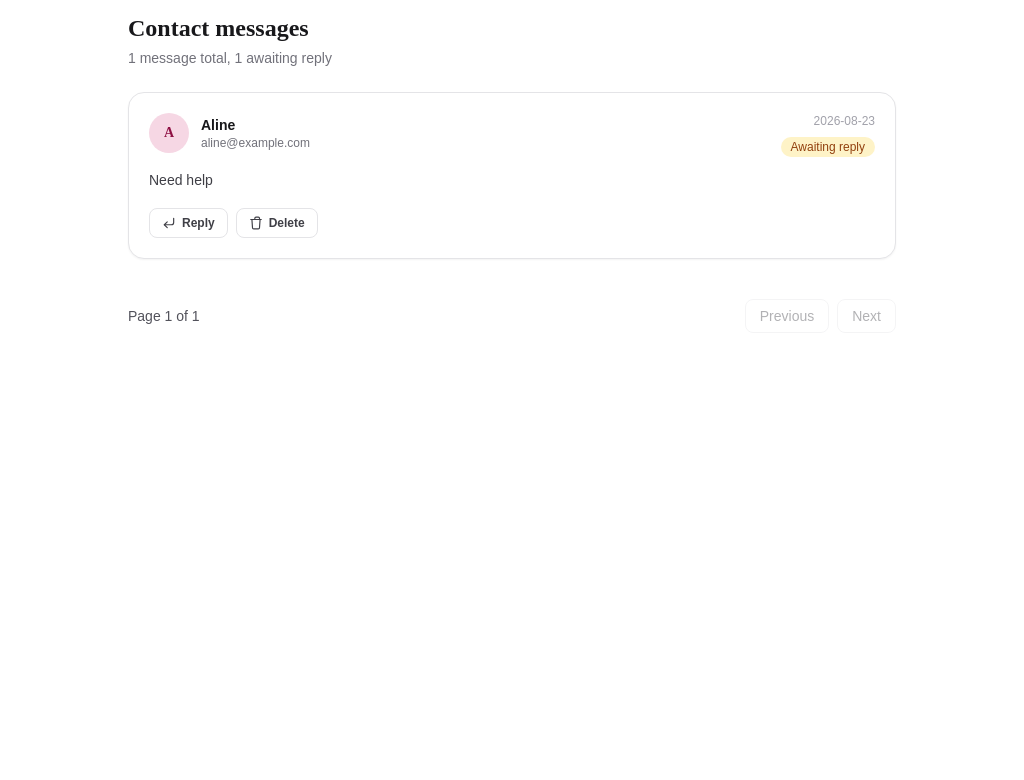
it: AdminMessages › shows an error toast when the reply fails
Click the button "Reply".
click(188, 223)  # box [149, 208, 228, 238]
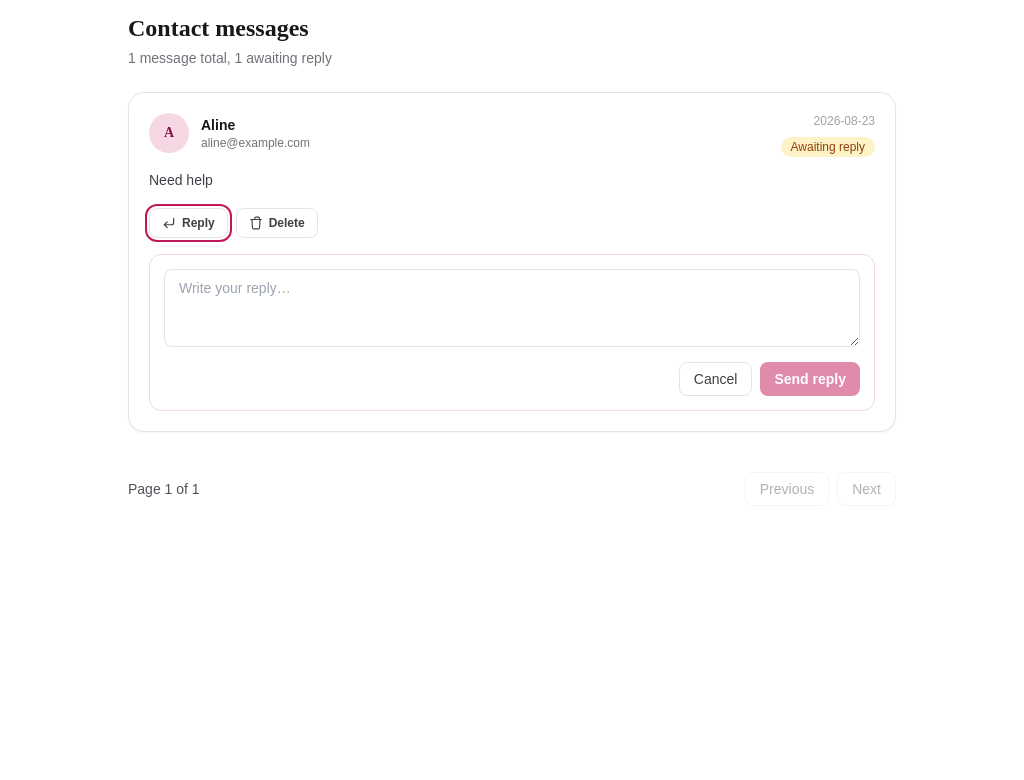
Type "Here is how to do it." into the text box named "reply to aline".
click(512, 308); type("Here is how to do it.")  # box [164, 269, 860, 347]
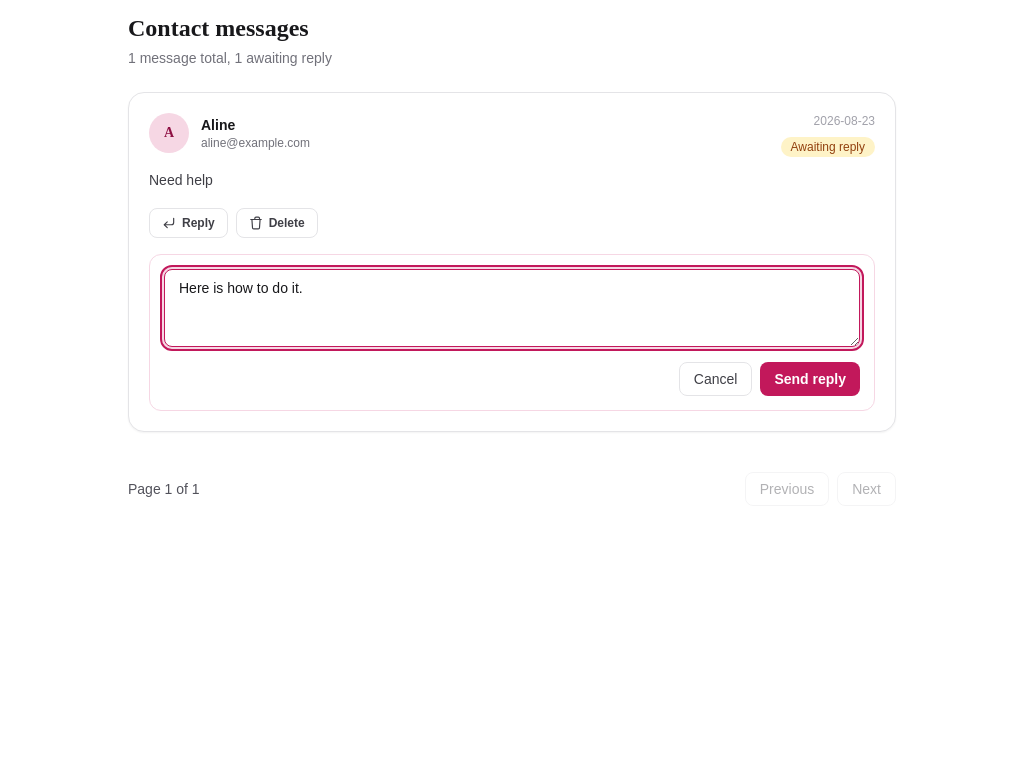
Click the button "Send reply".
click(810, 379)  # box [760, 362, 860, 396]
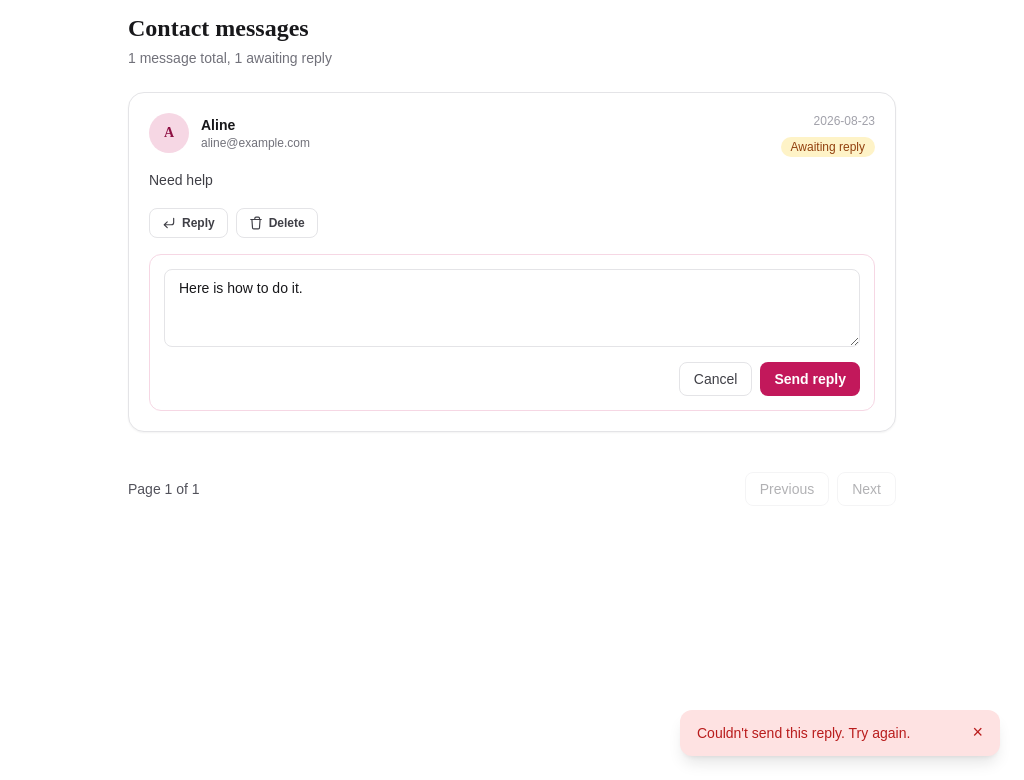
Expected: the text "Couldn't send this reply. Try again." is shown, [697, 725, 910, 741]
